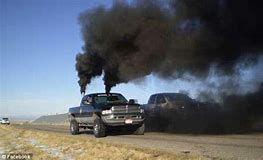smoke: (73, 1, 261, 87)
